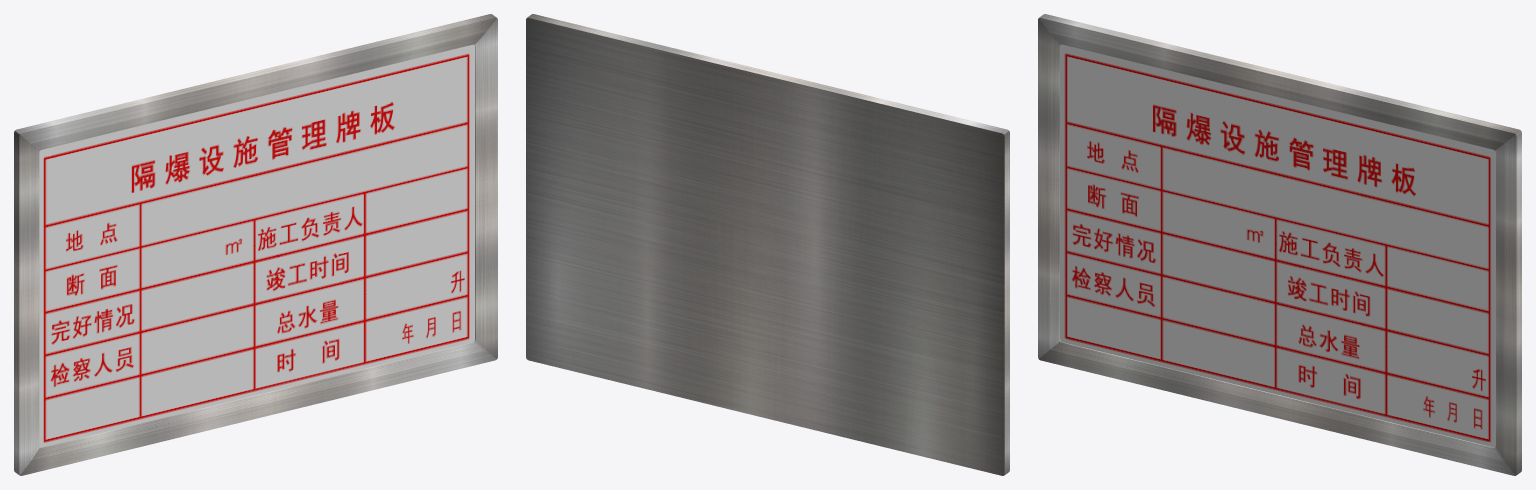
File: HJ_MKTS_015.FBX
3 views of the same model, side by side, from view 1: azimuth 30°, elevation 25°; view 2: azimuth 150°, elevation 25°; view 3: azimuth 330°, elevation 25° (orthographic).
Visible parts, largest first — view 1: HJ_MKTS_015; view 2: HJ_MKTS_015; view 3: HJ_MKTS_015.
Boxes of the visible parts, left/top/right/bottom form: HJ_MKTS_015: left=14, top=14, right=497, bottom=475; HJ_MKTS_015: left=526, top=14, right=1009, bottom=475; HJ_MKTS_015: left=1038, top=14, right=1521, bottom=475.
Size of the model in its own units: 0.9231 by 0.6312 by 0.0177.
2 materials, 2 textured.
